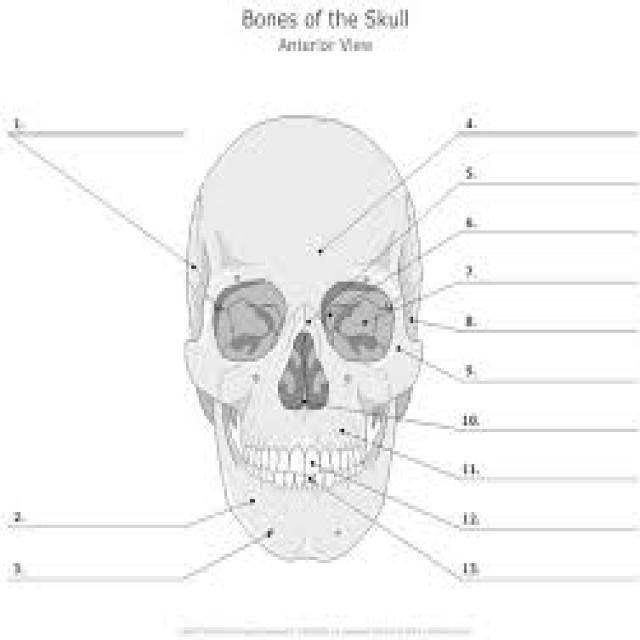skull: (174, 105, 436, 570)
